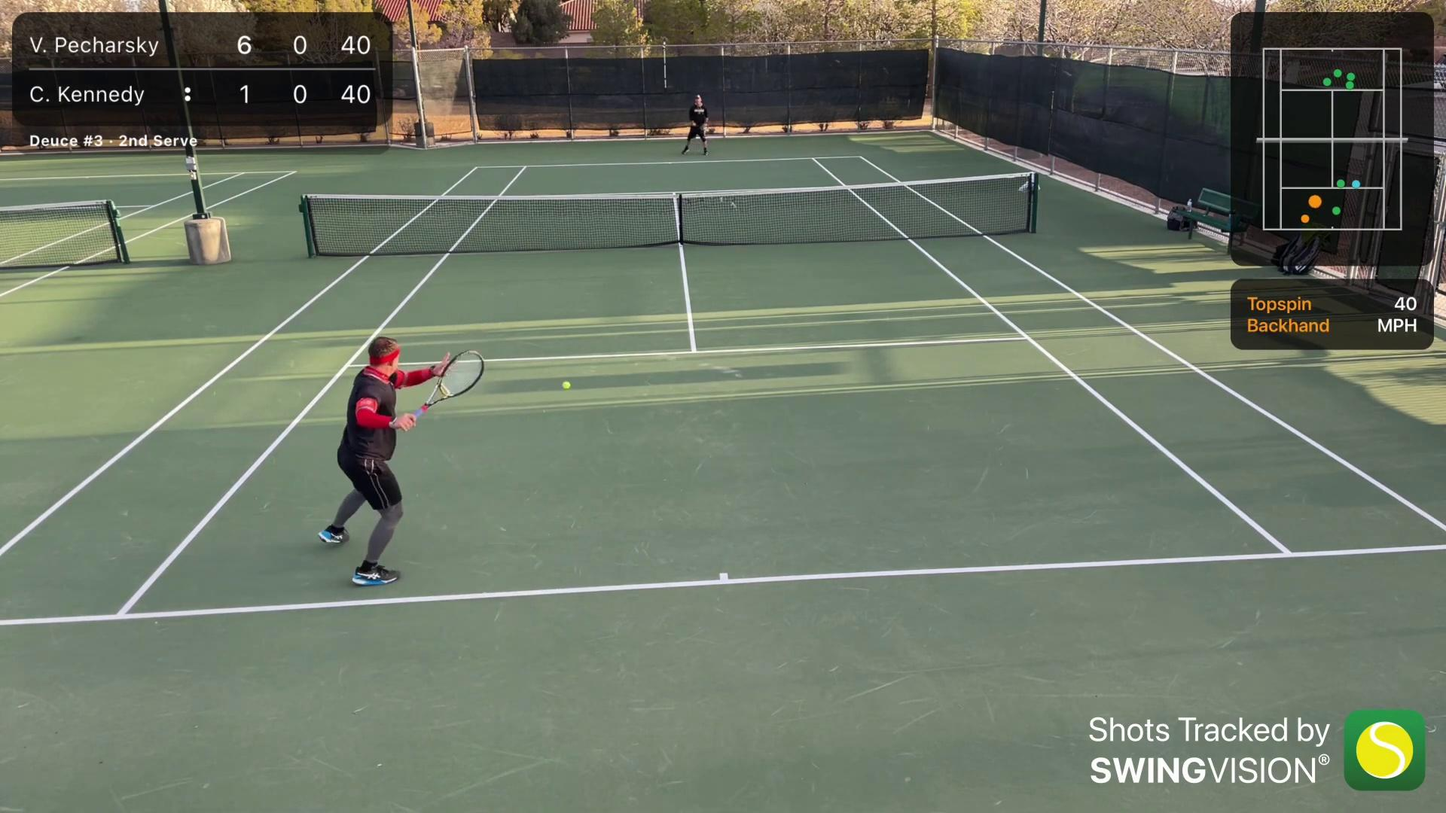ball: (558, 377, 574, 393)
